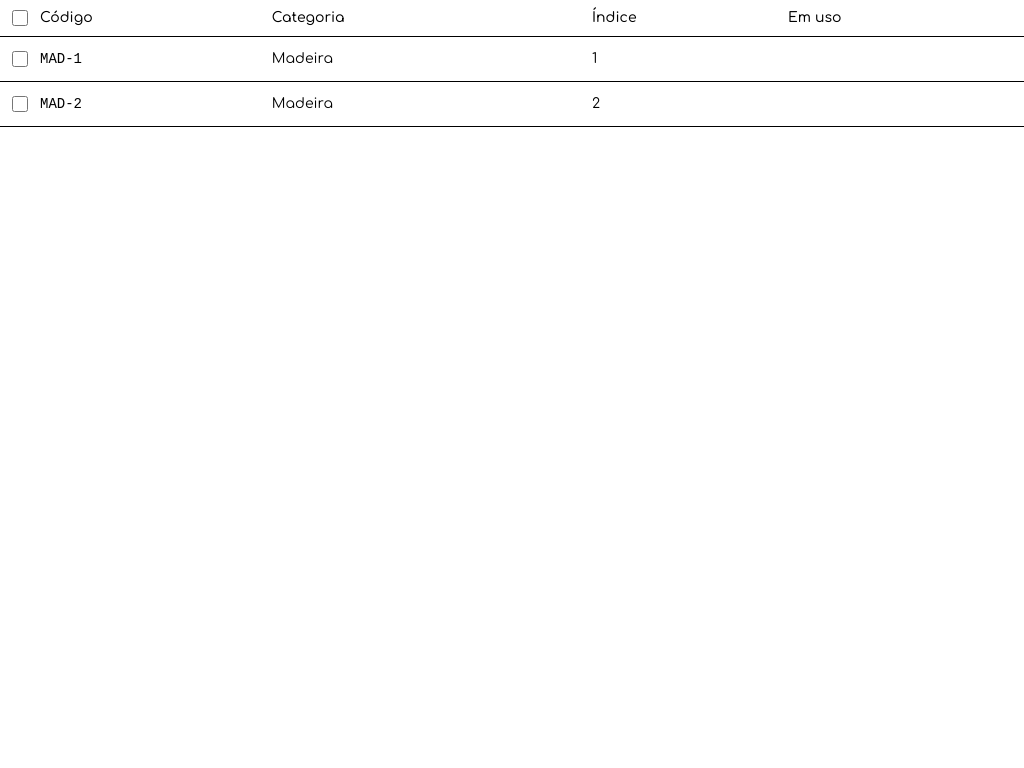
Test: FlagListTableFrame bulk delete › bulk deletes selected flags after confirmation
Click the checkbox named "Selecionar MAD-1".
click(20, 59)  # box [12, 51, 28, 67]
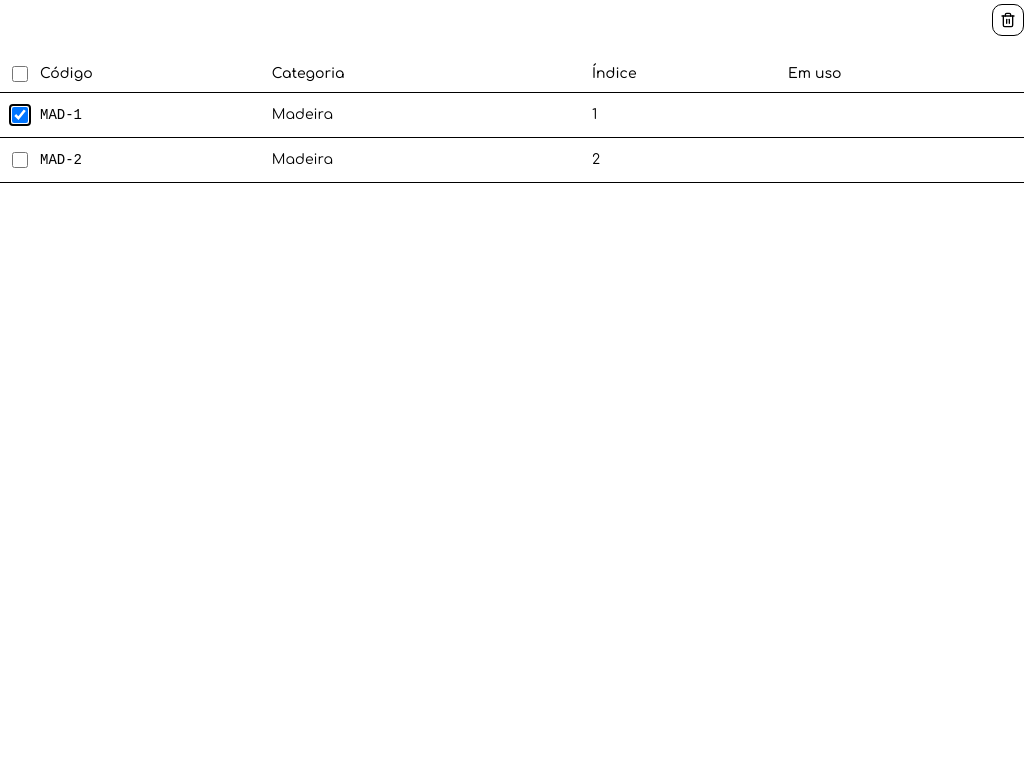
Click the button named "Excluir selecionadas".
click(1008, 20)  # box [992, 4, 1023, 36]
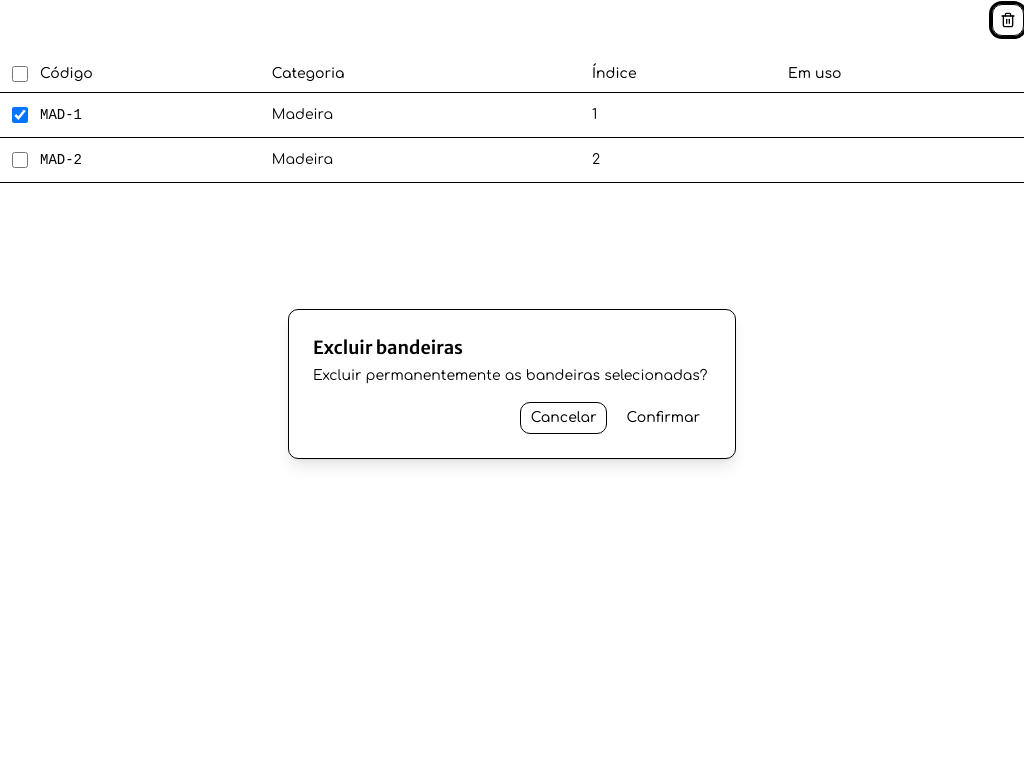
Click the button "Confirmar".
click(663, 418)  # box [615, 402, 711, 434]
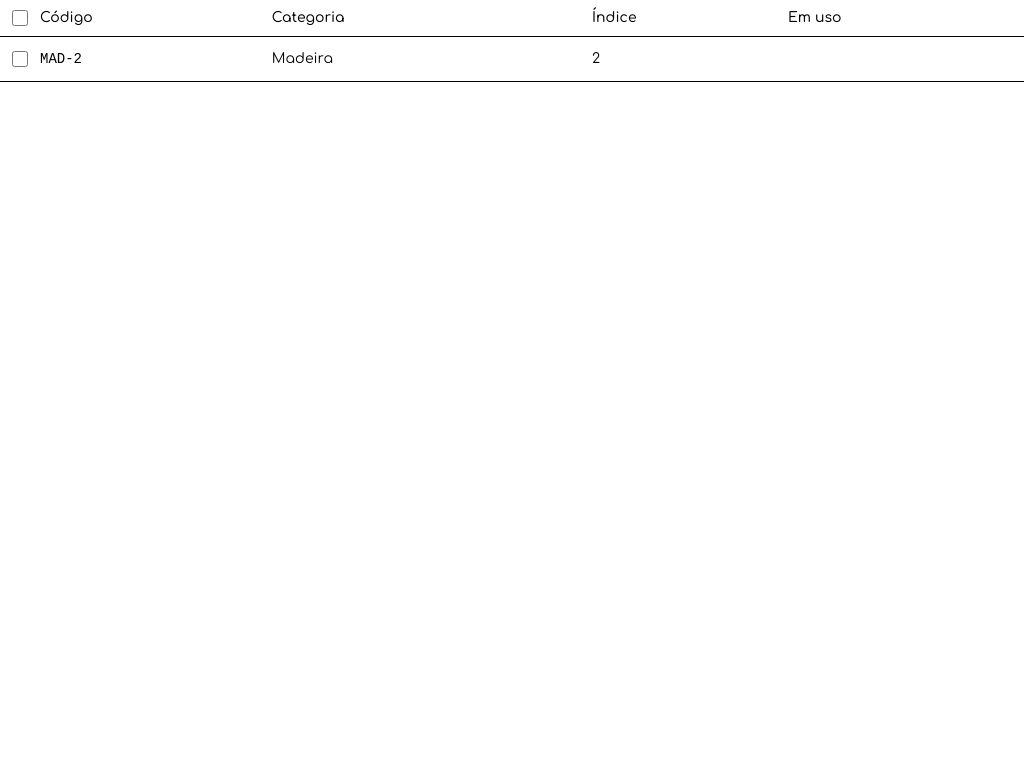
Expected: the link "MAD-2" is shown, [40, 51, 82, 67]
Now the link "MAD-1" is gone
